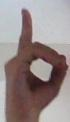D1: (3, 3, 69, 106)
